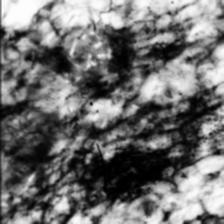Potentially Malignant Skin Tumors: (105, 134, 166, 202)
